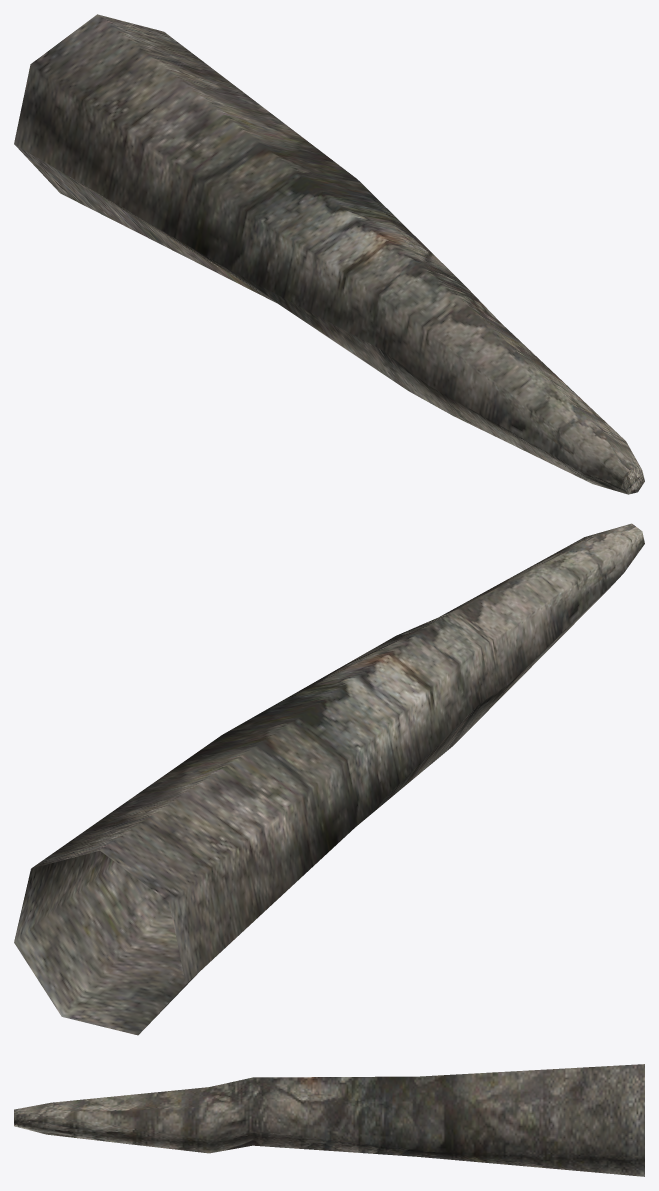
The model's file is tdr_h_stag_melted_a.obj.
The picture shows the model from 3 angles, top to bottom: view 1: azimuth 30°, elevation 25°; view 2: azimuth 150°, elevation 25°; view 3: azimuth 270°, elevation 25°; orthographic projection. The views are drawn at different scales.
Parts seen in each view (by area): view 1: tdr_h_stag_melted_a; view 2: tdr_h_stag_melted_a; view 3: tdr_h_stag_melted_a.
Part boxes in pixels (left/top/right/bottom): tdr_h_stag_melted_a: left=14, top=14, right=644, bottom=494; tdr_h_stag_melted_a: left=14, top=523, right=644, bottom=1035; tdr_h_stag_melted_a: left=14, top=1064, right=644, bottom=1176.
Size of the model in its own units: 178 by 173 by 971.
Materials: 1 (1 with a texture image).
